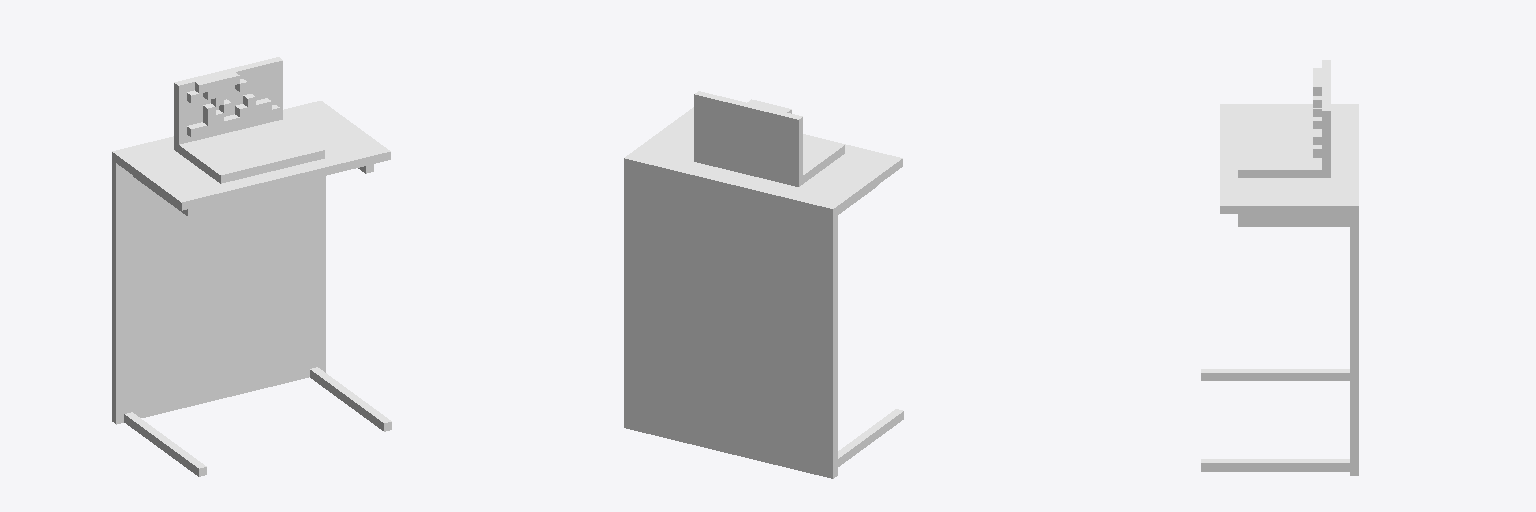
Rendered from ComputerDesk.obj.
3 renders of one model, left to right at view 1: azimuth 30°, elevation 25°; view 2: azimuth 150°, elevation 25°; view 3: azimuth 270°, elevation 25°, orthographic.
Visible parts, largest first — view 1: ComputerDesk; view 2: ComputerDesk; view 3: ComputerDesk.
Boxes of the visible parts, box(x1,y1,x2,y2) form: ComputerDesk: box(112, 57, 391, 476); ComputerDesk: box(624, 91, 903, 478); ComputerDesk: box(1201, 60, 1358, 475).
Bounding box in the file's own units: 26 × 40 × 17.